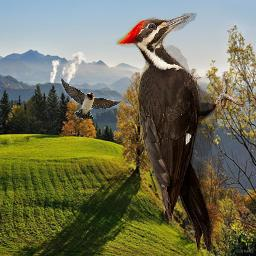Swallow: (60, 77, 122, 119)
Woodpecker: (116, 13, 245, 255)
